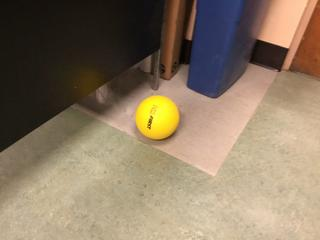power_cell: (132, 94, 184, 141)
